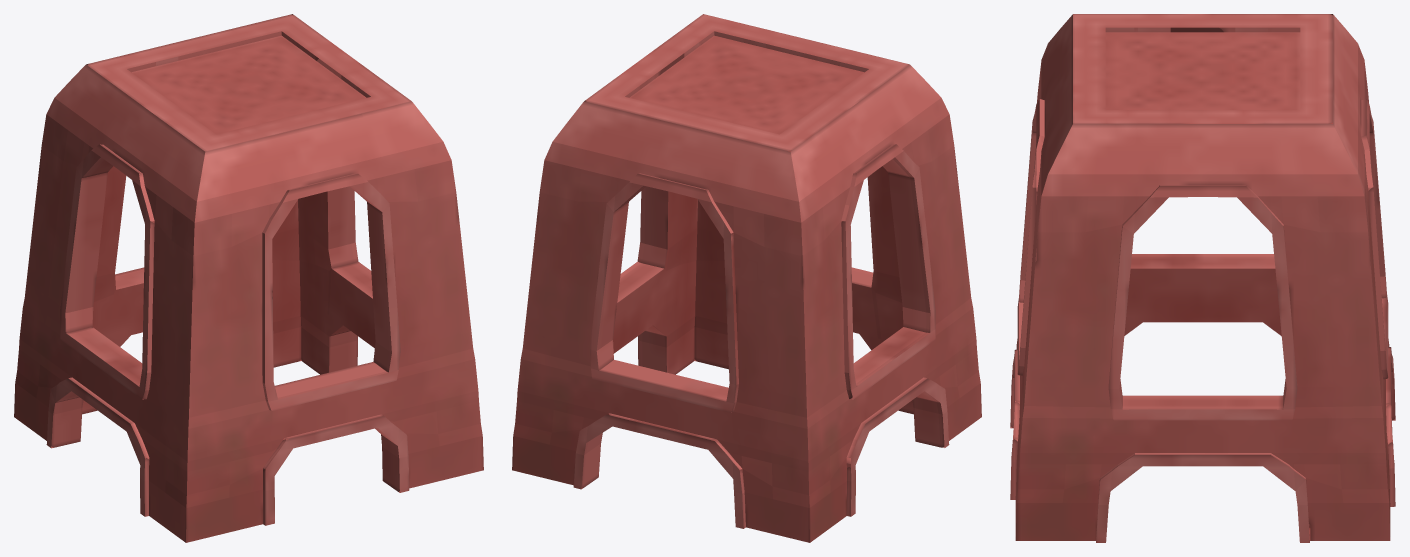
File: Stool.fbx
3 renders of one model, left to right at view 1: azimuth 30°, elevation 25°; view 2: azimuth 150°, elevation 25°; view 3: azimuth 270°, elevation 25°, orthographic. The views are drawn at different scales.
Parts seen in each view (by area): view 1: Stool; view 2: Stool; view 3: Stool.
Part boxes in pixels (bbox=[...]): Stool: bbox=[14, 14, 483, 542]; Stool: bbox=[512, 14, 981, 542]; Stool: bbox=[1010, 14, 1395, 542].
Size of the model in its own units: 114 by 129 by 114.
Materials: 1 (1 with a texture image).
